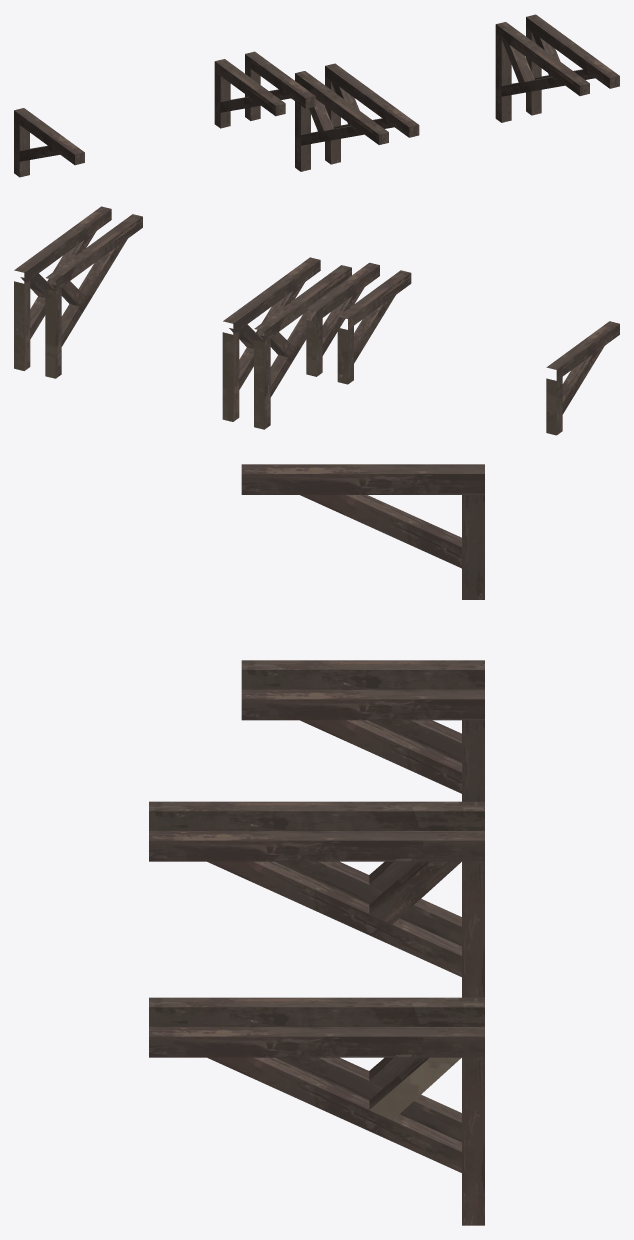
3 renders of one model, top to bottom at view 1: azimuth 30°, elevation 25°; view 2: azimuth 150°, elevation 25°; view 3: azimuth 270°, elevation 25°, orthographic. The views are drawn at different scales.
Visible parts, largest first — view 1: body0_model0_lod0_mesh0; view 2: body0_model0_lod0_mesh0, body0_model0_lod0_mesh1; view 3: body0_model0_lod0_mesh0, body0_model0_lod0_mesh1.
Boxes of the visible parts, bbox=[...] form: body0_model0_lod0_mesh0: bbox=[14, 14, 619, 177]; body0_model0_lod0_mesh0: bbox=[14, 206, 619, 434]; body0_model0_lod0_mesh1: bbox=[14, 281, 556, 435]; body0_model0_lod0_mesh0: bbox=[149, 464, 484, 1225]; body0_model0_lod0_mesh1: bbox=[369, 1057, 461, 1120].
Bounding box in the file's own units: 832 × 192 × 232.
2 materials, 2 textured.
